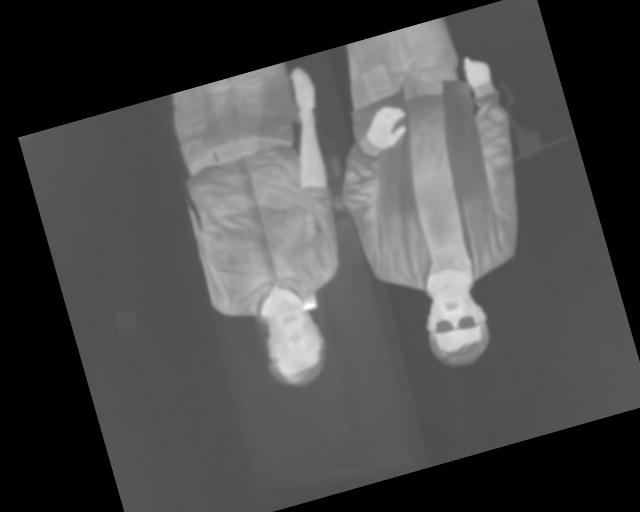face: (414, 273, 499, 375), (253, 293, 336, 393)
